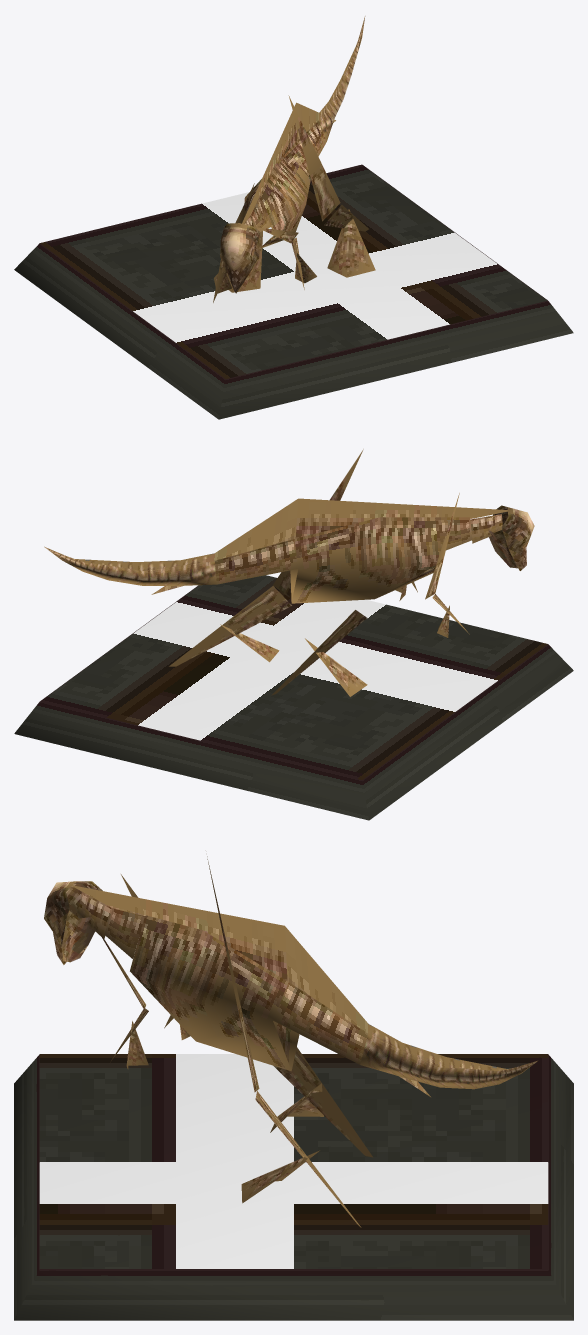
The model's file is int_din_pachy_m.dae.
3 views of the same model, one above another, from view 1: azimuth 30°, elevation 25°; view 2: azimuth 150°, elevation 25°; view 3: azimuth 270°, elevation 25° (orthographic). The views are drawn at different scales.
Parts seen in each view (by area): view 1: int_din_pachy_m; view 2: int_din_pachy_m; view 3: int_din_pachy_m.
Boxes of the visible parts, x1,y1,x2,y2 form: int_din_pachy_m: (14, 16, 573, 419); int_din_pachy_m: (14, 449, 573, 820); int_din_pachy_m: (14, 856, 573, 1320).
Size of the model in its own units: 26.68 by 17.19 by 26.65.
Materials: 4 (4 with a texture image).
